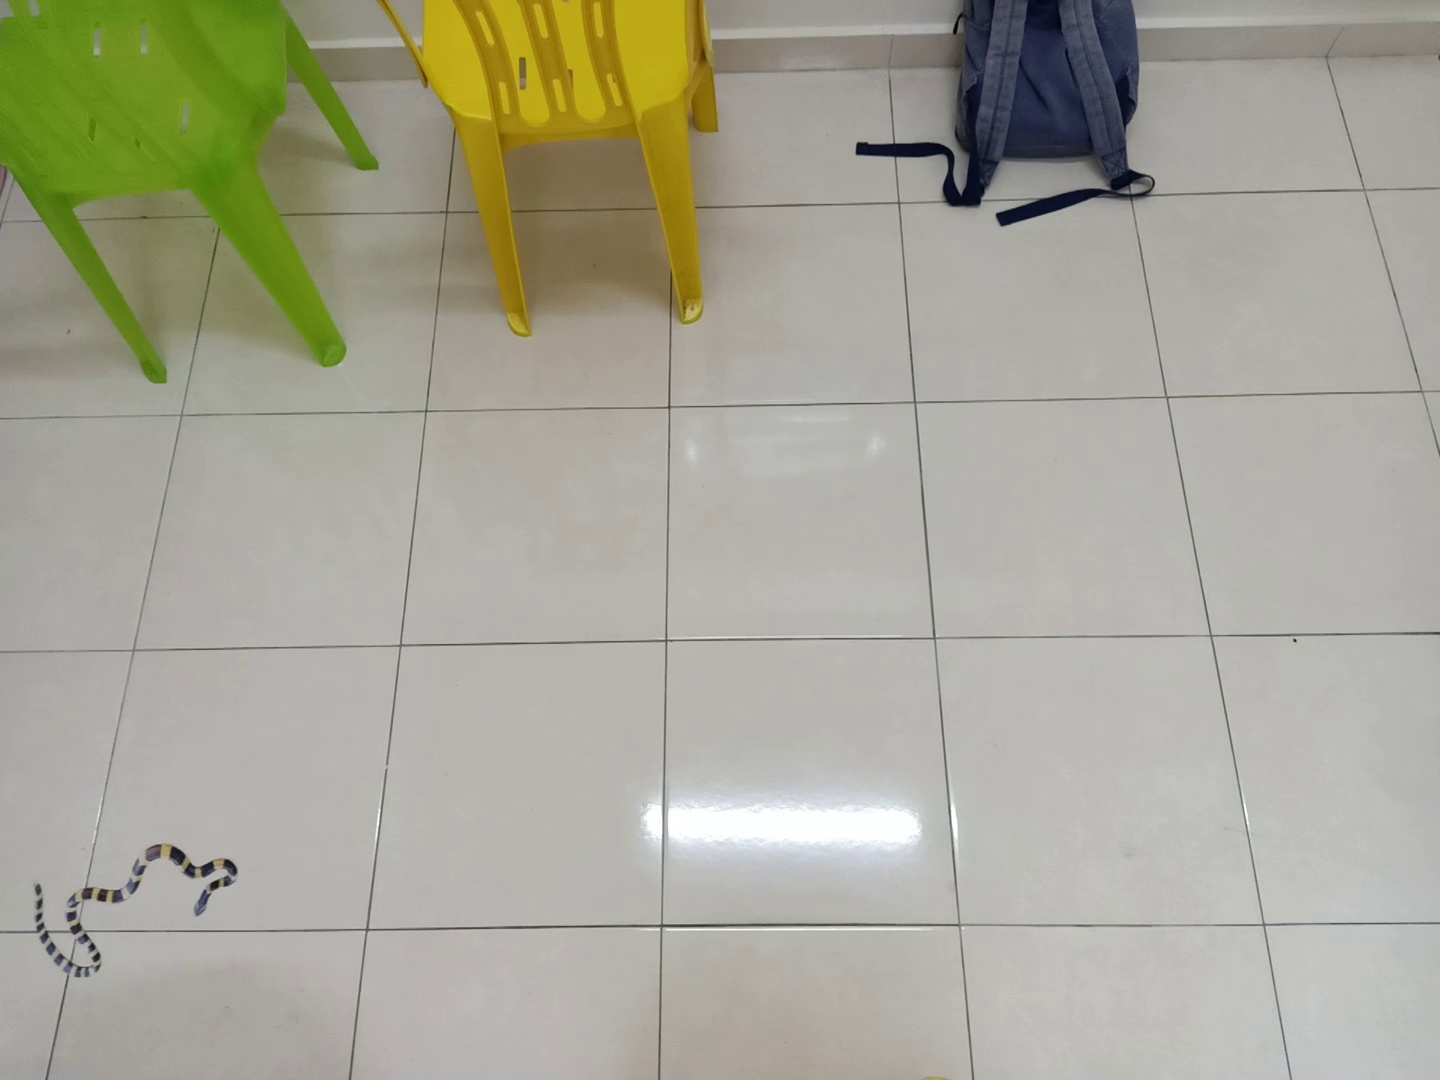snake: (22, 833, 249, 985)
